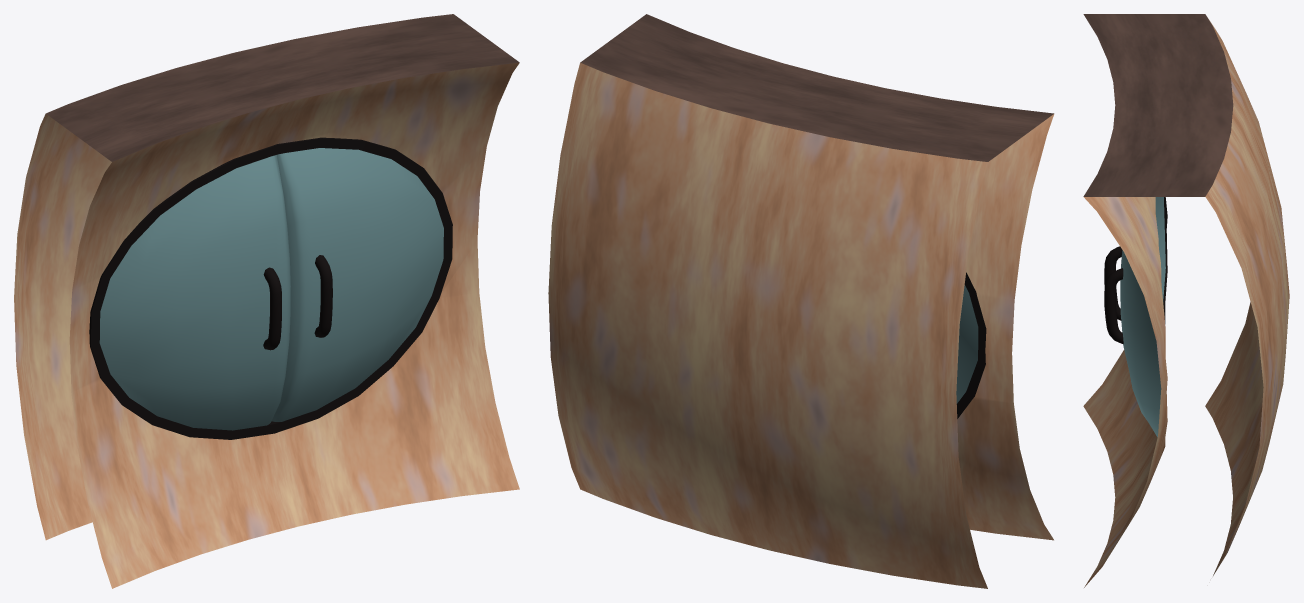
File: FI_077_francos_building_wall_cupboard.glb
3 renders of one model, left to right at view 1: azimuth 30°, elevation 25°; view 2: azimuth 150°, elevation 25°; view 3: azimuth 270°, elevation 25°, orthographic. The views are drawn at different scales.
Visible parts, largest first — view 1: cupboard_wall; view 2: cupboard_wall; view 3: cupboard_wall.
Part boxes in pixels (bbox=[...]): cupboard_wall: bbox=[14, 14, 519, 588]; cupboard_wall: bbox=[548, 14, 1054, 588]; cupboard_wall: bbox=[1083, 14, 1289, 587].
Bounding box in the file's own units: 3 × 3 × 1.43.
Materials: 4 (2 with a texture image).
